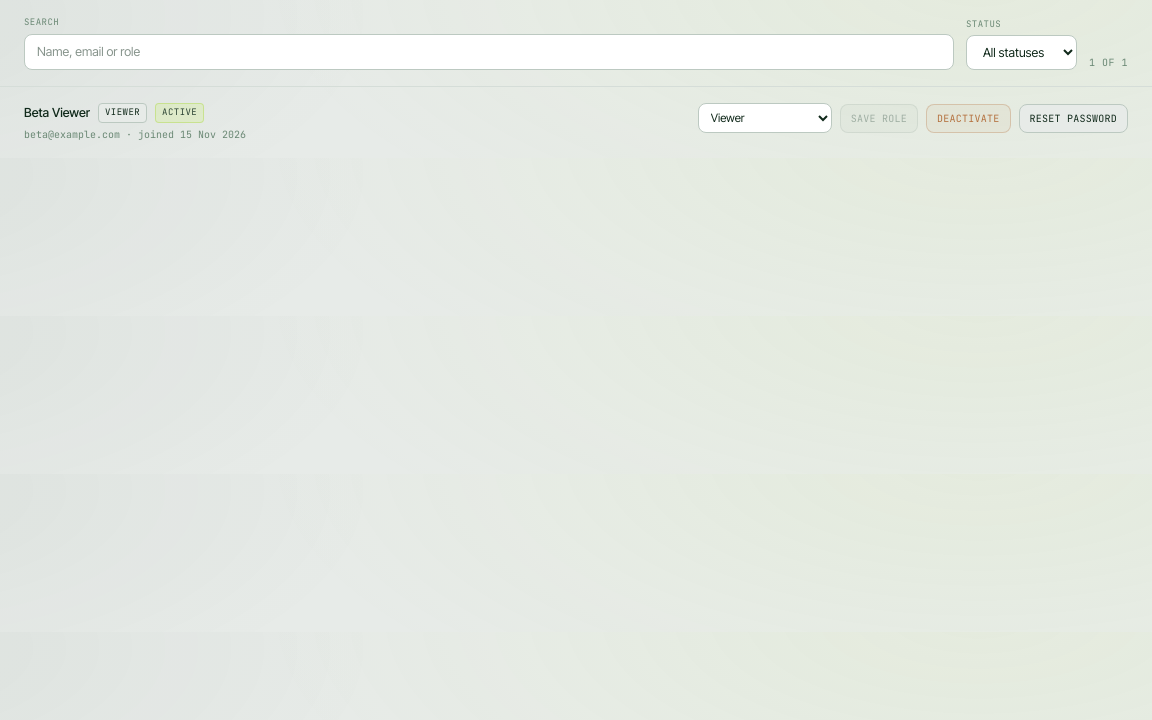
it: member roster › surfaces a last-administrator refusal from the API
Select "Coordinator" in the dropdown named "Role for beta@example.com": {"x": 765, "y": 118} [698,103,832,133]
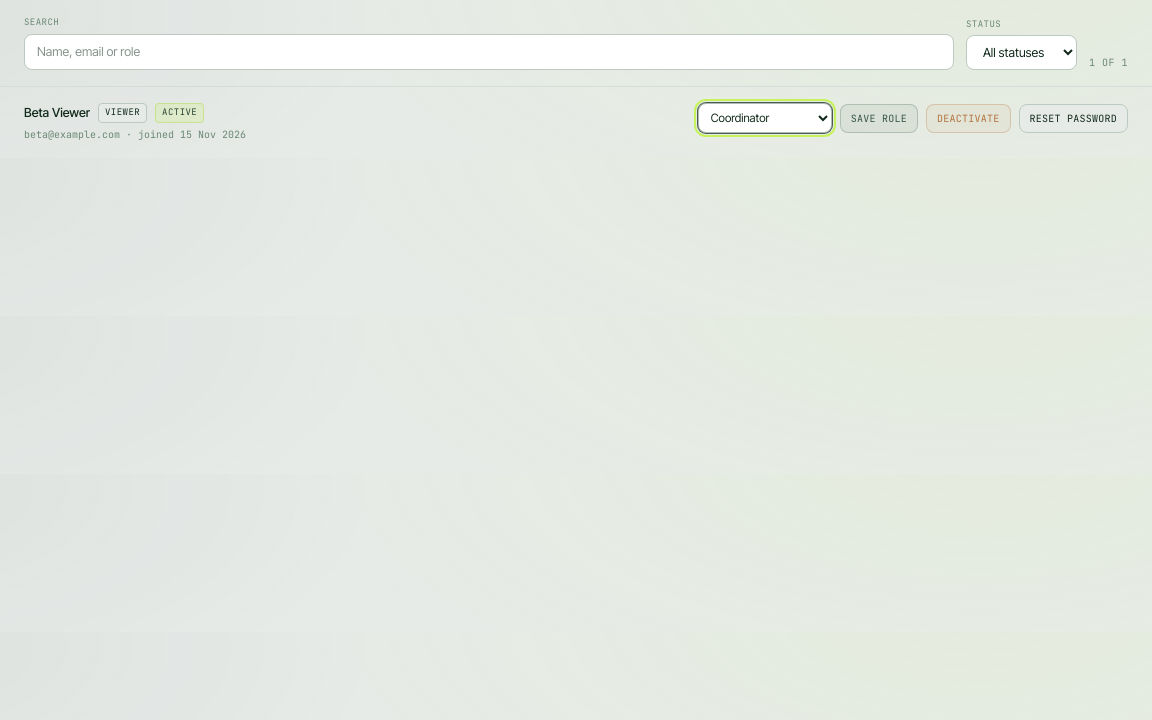
Click the button "Save role": {"x": 879, "y": 118} [840,104,918,133]
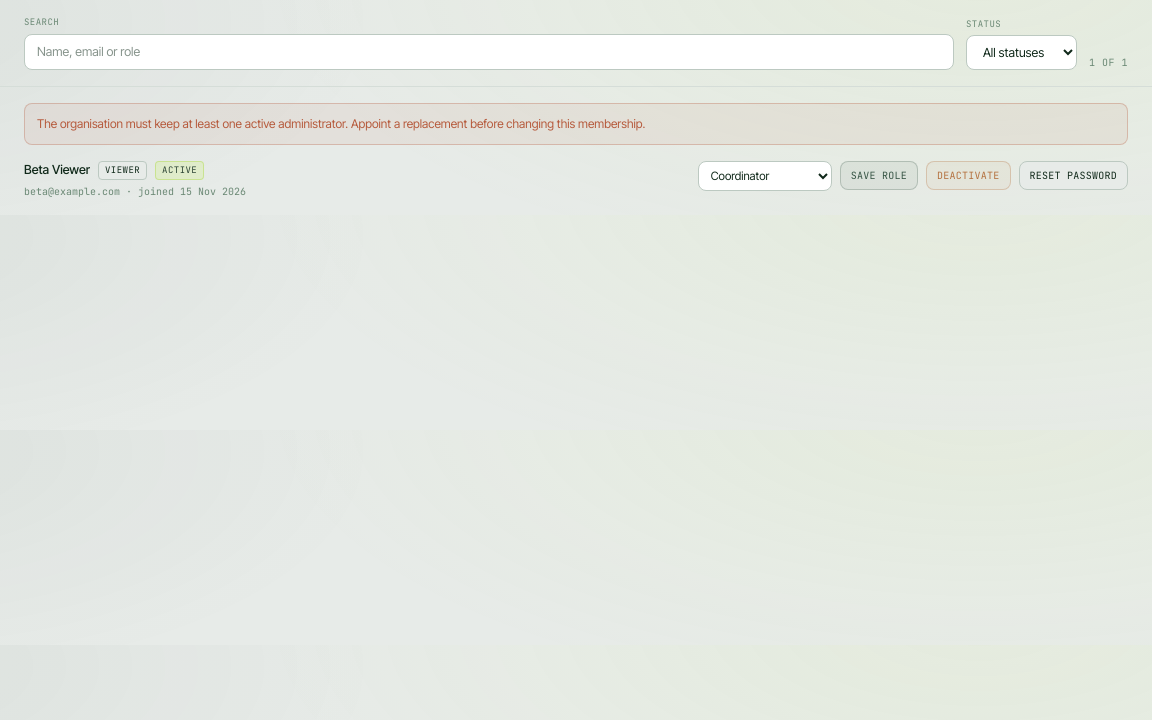
Expected: the message shows "The organisation must keep at least one active administrator.", [37,116,645,131]
